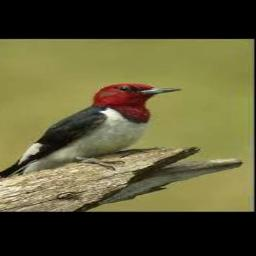Woodpecker: (0, 83, 182, 178)
